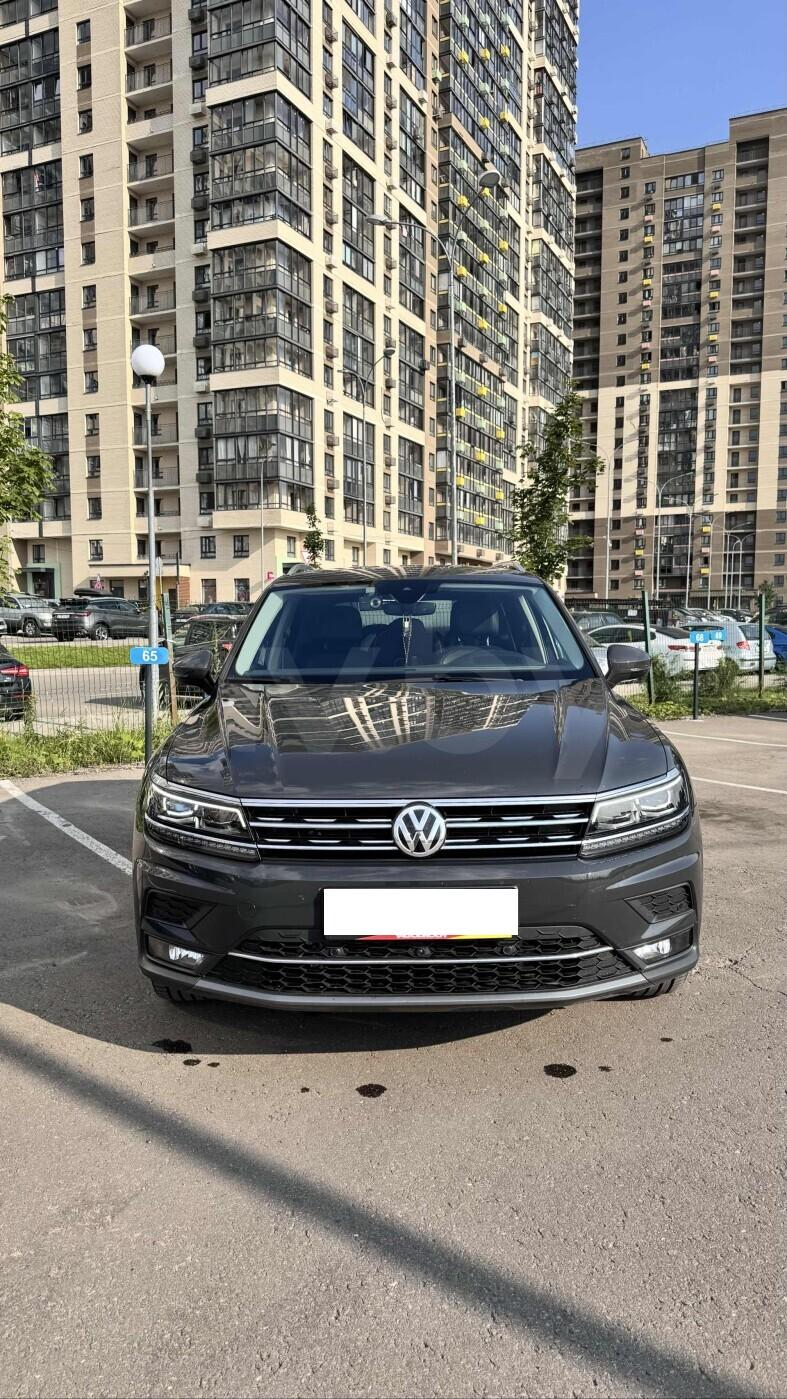Tiguan_2016-2021: (122, 568, 716, 1022)
